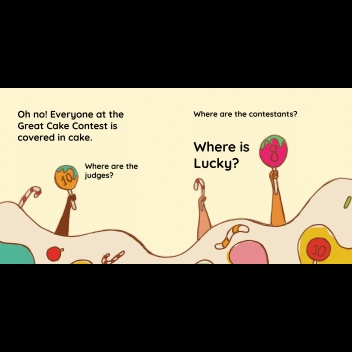latin: (189, 106, 301, 119), (13, 107, 127, 119), (14, 119, 120, 130), (186, 138, 250, 153), (15, 131, 93, 142), (189, 154, 240, 170)
